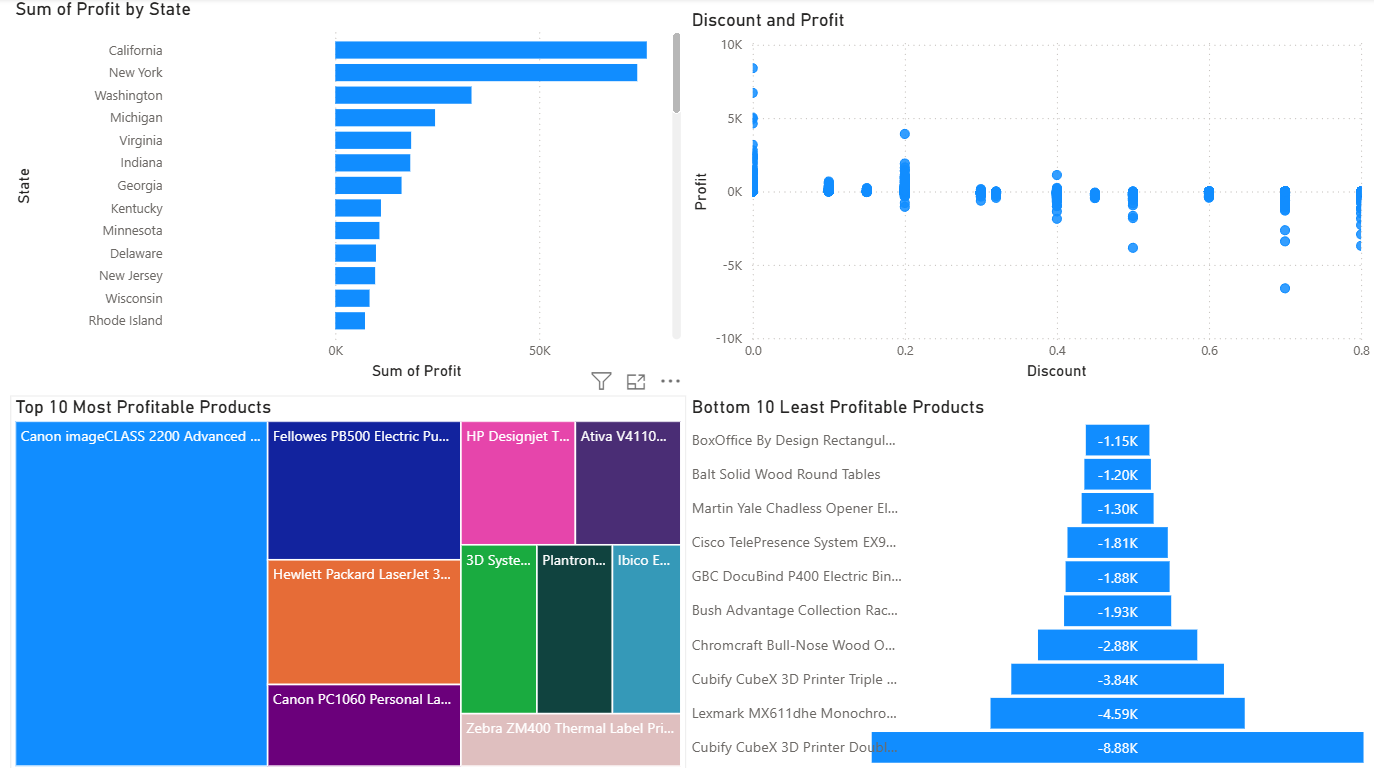

The page's visual inventory and layout, read from the dashboard file:
{"tool":"powerbi","page":{"name":"Profitability","canvas":[1280,720],"ordinal":1},"visuals":[{"type":"clusteredBarChart","fields":{"Category":["Sample - Superstore.State"],"Y":["Sum(Sample - Superstore.Profit)"]},"box":[10.5,0,629.1,360.5],"z":0},{"type":"scatterChart","fields":{"X":["Sample - Superstore.Discount"],"Y":["Sample - Superstore.Profit"]},"box":[639.5,10.5,640.7,350],"z":1000},{"type":"treemap","title":"Top 10 Most Profitable Products","fields":{"Group":["Sample - Superstore.Product Name"],"Values":["Sum(Sample - Superstore.Profit)"]},"box":[10,370,629,350],"z":2000},{"type":"funnel","title":"Bottom 10 Least Profitable Products","fields":{"Category":["Sample - Superstore.Product Name"],"Y":["Sum(Sample - Superstore.Profit)"]},"box":[640,370,640,350],"z":2001}]}

Visuals, with their boxes in screenshot pixels (x1, y1, x2, y2), scaled from the page's 1280x720 canvas onto the 1374x768 screenshot:
clusteredBarChart - Sample - Superstore.State x Sum(Sample - Superstore.Profit): BBox(11, 0, 687, 385)
scatterChart - Sample - Superstore.Discount x Sample - Superstore.Profit: BBox(686, 11, 1373, 385)
"Top 10 Most Profitable Products" treemap: BBox(11, 395, 686, 767)
"Bottom 10 Least Profitable Products" funnel: BBox(687, 395, 1373, 767)
